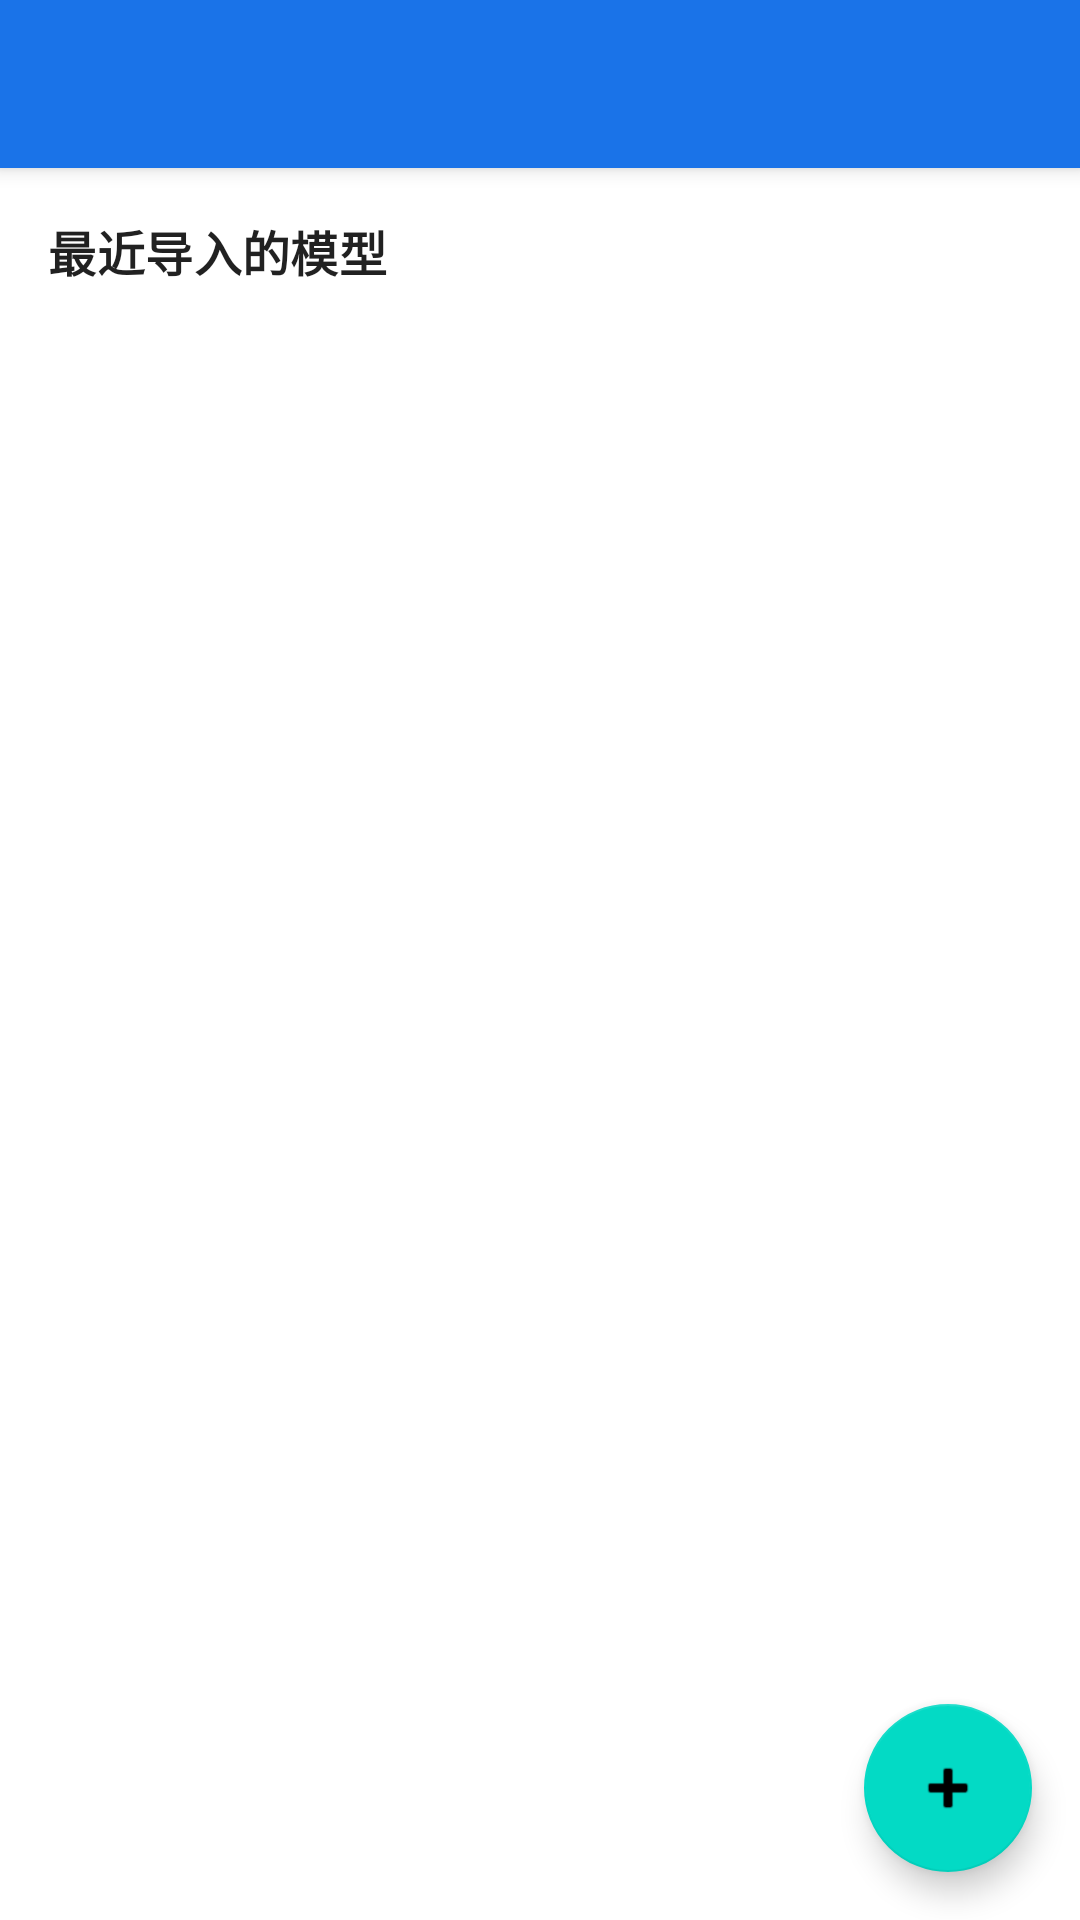

Screen size 1080px x 1920px. Icon name, then its box in pixels as (x1, y1, x2, y2):
导入模型: (864, 1704, 1032, 1872)
